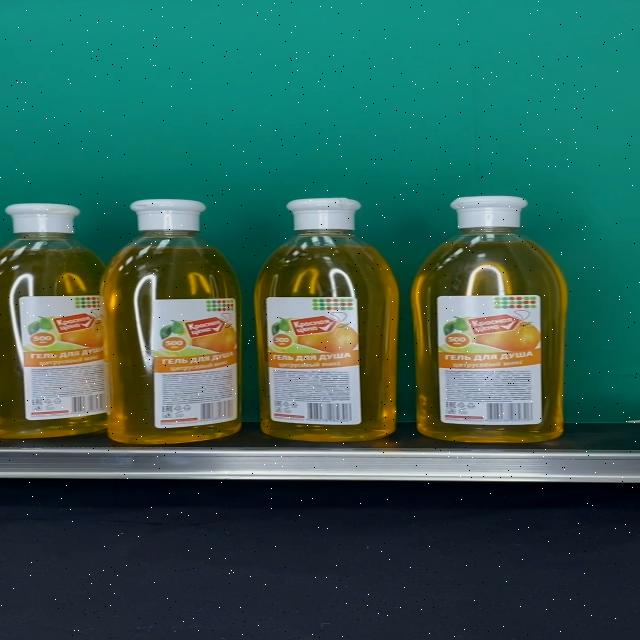Bottle: (412, 195, 566, 442), (254, 198, 399, 442), (102, 200, 241, 443), (0, 204, 107, 438)
Cap: (449, 196, 528, 228), (286, 198, 360, 231), (130, 200, 206, 230), (6, 204, 81, 234)
